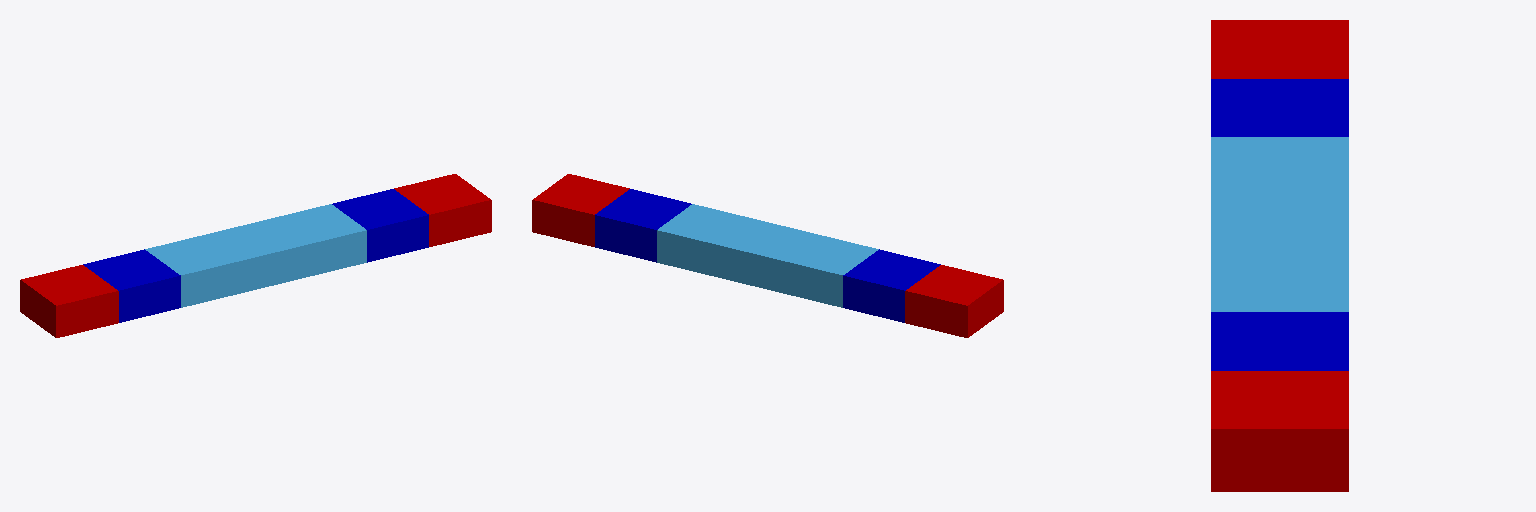
The robot description file, URDF, robot "Chain":
<?xml version="1.0"?>
<robot name="Chain">
  <link name="baselink"/>
  <link name="root">
    <visual>
      <geometry>
        <box size="0.3 .10 0.05"/>
      </geometry>
    </visual>
    <inertial>
      <mass value="1"/>
      <inertia ixx="0.4" ixy="0.0" ixz="0.0" iyy="0.4" iyz="0.0" izz="0.2"/>
    </inertial>
  </link>
  <link name="link1">
    <visual>
			<origin rpy="0 0 0" xyz="0.05 0.0 0"/>
      <geometry>
        <box size="0.1 .10 0.05"/>
      </geometry>
      <material name="blue">
        <color rgba="0 0 0.8 1"/>
      </material>
    </visual>
    <inertial>
			<origin rpy="0 0 0" xyz="0.05 0.0 0"/>
      <mass value="1"/>
      <inertia ixx="0.4" ixy="0.0" ixz="0.0" iyy="0.4" iyz="0.0" izz="0.2"/>
    </inertial>
  </link>
  <link name="link2">
    <visual>
			<origin rpy="0 0 0" xyz="-0.05 0.0 0"/>
      <geometry>
        <box size="0.1 .10 0.05"/>
      </geometry>
      <material name="blue">
        <color rgba="0 0 0.8 1"/>
      </material>
    </visual>
    <inertial>
			<origin rpy="0 0 0" xyz="-0.05 0.0 0"/>
      <mass value="1"/>
      <inertia ixx="0.4" ixy="0.0" ixz="0.0" iyy="0.4" iyz="0.0" izz="0.2"/>
    </inertial>
  </link>
  <link name="link3">
    <visual>
			<origin rpy="0 0 0" xyz="0.05 0.0 0"/>
      <geometry>
        <box size="0.1 .10 0.05"/>
      </geometry>
      <material name="red">
        <color rgba="0.8 0 0 1"/>
      </material>
    </visual>
    <inertial>
			<origin rpy="0 0 0" xyz="0.05 0.0 0"/>
      <mass value="1"/>
      <inertia ixx="0.4" ixy="0.0" ixz="0.0" iyy="0.4" iyz="0.0" izz="0.2"/>
    </inertial>
  </link>
  <link name="link4">
    <visual>
			<origin rpy="0 0 0" xyz="-0.05 0.0 0"/>
      <geometry>
        <box size="0.1 .10 0.05"/>
      </geometry>
      <material name="red">
        <color rgba="0.8 0 0 1"/>
      </material>
    </visual>
    <inertial>
			<origin rpy="0 0 0" xyz="-0.05 0.0 0"/>
      <mass value="1"/>
      <inertia ixx="0.4" ixy="0.0" ixz="0.0" iyy="0.4" iyz="0.0" izz="0.2"/>
    </inertial>
  </link>
  <!-- Joints -->
  <joint name="basetoroot" type="fixed">
    <parent link="baselink"/>
    <child link="root"/>
    <origin rpy="0 0 0" xyz="0 0 0"/>
  </joint>
  <joint name="roottolink1" type="revolute">
    <parent link="root"/>
    <child link="link1"/>
    <origin rpy="0 0 0" xyz="0.15 0.0 0"/>
    <axis xyz="0 -1 0"/>
		<limit effort="30" velocity="1.0" lower="-2.2" upper="0.7" />
  </joint>
  <joint name="roottolink2" type="revolute">
    <parent link="root"/>
    <child link="link2"/>
    <origin rpy="0 0 0" xyz="-0.15 0.0 0"/>
    <axis xyz="0 -1 0"/>
		<limit effort="30" velocity="1.0" lower="-2.2" upper="0.7" />
  </joint>
 <joint name="link1tolink3" type="revolute">
    <parent link="link1"/>
    <child link="link3"/>
    <origin rpy="0 0 0" xyz="0.1 0.0 0"/>
    <axis xyz="0 -1 0"/>
		<limit effort="30" velocity="1.0" lower="-2.2" upper="0.7" />
  </joint>
 <joint name="link2tolink4" type="revolute">
    <parent link="link2"/>
    <child link="link4"/>
    <origin rpy="0 0 0" xyz="-0.1 0.0 0"/>
    <axis xyz="0 -1 0"/>
		<limit effort="30" velocity="1.0" lower="-2.2" upper="0.7" />
  </joint>
</robot>

--- What the picture shows (computed from the rendered views, not written in the file) ---
3 views of the same robot in one strip: view 1: azimuth 30°, elevation 25°; view 2: azimuth 150°, elevation 25°; view 3: azimuth 270°, elevation 25° (orthographic).
Model Chain with 6 links and 5 joints (4 revolute, 1 fixed), rooted at baselink, posed every joint at zero.
Links seen in each view (by area): view 1: root, link4, link3, link1, link2; view 2: root, link4, link3, link1, link2; view 3: root, link3, link1, link4, link2.
Boxes of the visible links, <box> form: root: <box>145,204,366,307</box>; link4: <box>20,265,118,337</box>; link3: <box>394,174,491,246</box>; link1: <box>332,189,428,262</box>; link2: <box>83,249,180,322</box>; root: <box>657,204,878,307</box>; link4: <box>905,265,1003,337</box>; link3: <box>532,174,629,246</box>; link1: <box>595,189,691,262</box>; link2: <box>843,249,940,322</box>; root: <box>1211,137,1348,311</box>; link3: <box>1211,371,1348,491</box>; link1: <box>1211,312,1348,370</box>; link4: <box>1211,20,1348,78</box>; link2: <box>1211,79,1348,136</box>.
Bounding box of the posed robot: 0.7 × 0.1 × 0.05 m (x, y, z).
Geometry: primitives only (box / cylinder / sphere), no mesh files.